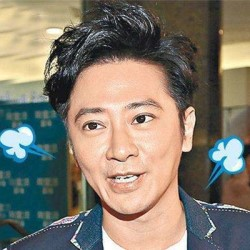unmask: (66, 54, 186, 217)
